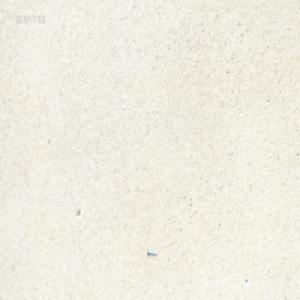Nail: (146, 248, 156, 256)
